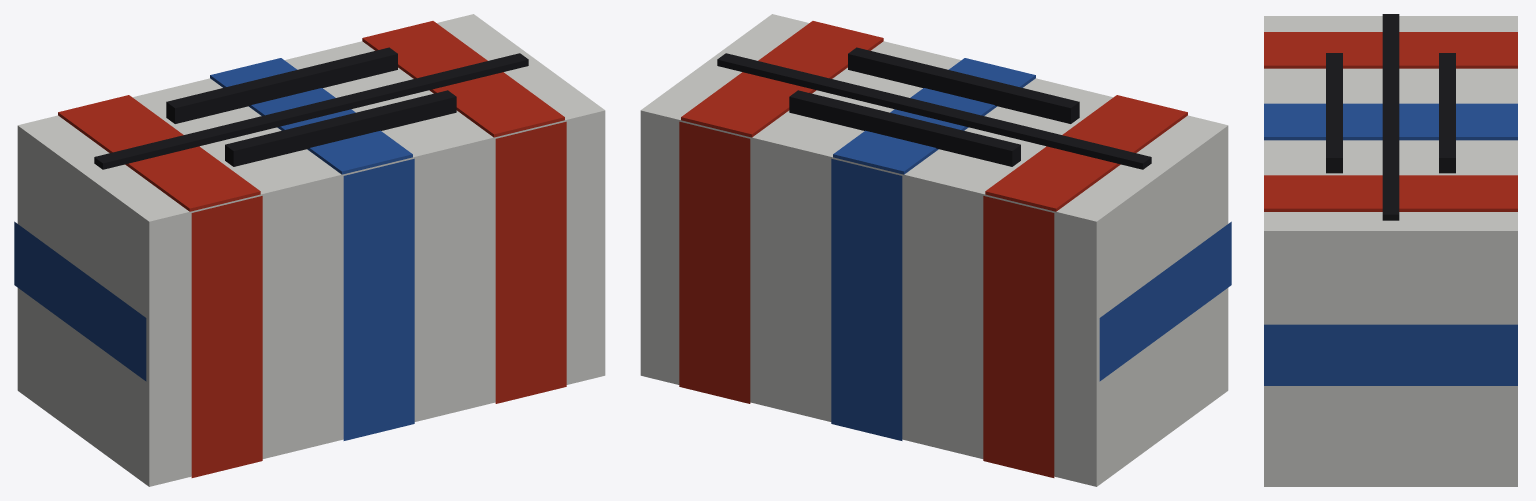
Rendered from prop_travel-bag.glb.
3 views of the same model, side by side, from view 1: azimuth 30°, elevation 25°; view 2: azimuth 150°, elevation 25°; view 3: azimuth 270°, elevation 25° (orthographic). The views are drawn at different scales.
Visible parts, largest first — view 1: body; view 2: body; view 3: body.
Boxes of the visible parts, x1=… form: body: x1=14, y1=14, x2=605, y2=486; body: x1=640, y1=14, x2=1231, y2=486; body: x1=1264, y1=14, x2=1517, y2=486.
Bounding box in the file's own units: 0.912 × 0.535 × 0.462.
